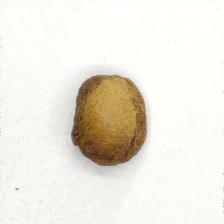NG: (72, 81, 91, 130)
